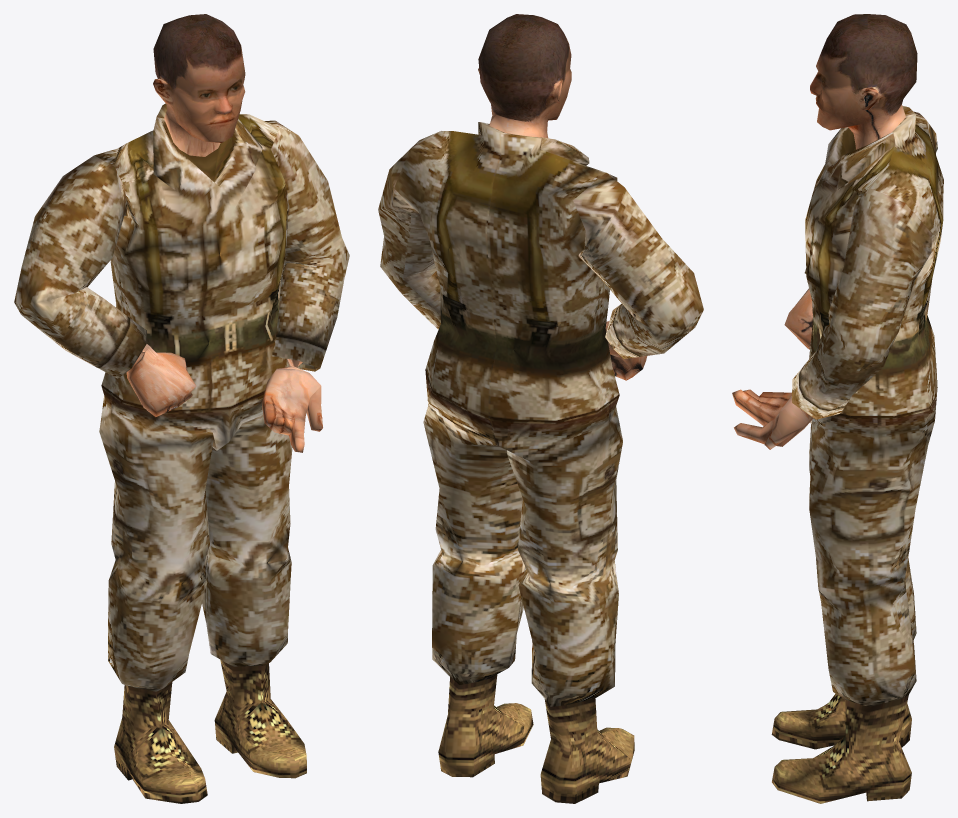
The model's file is OUTRO_SAS_COMMANDER.glb.
3 views of the same model, side by side, from view 1: azimuth 30°, elevation 25°; view 2: azimuth 150°, elevation 25°; view 3: azimuth 270°, elevation 25° (orthographic).
Parts seen in each view (by area): view 1: NEWSKIN; view 2: NEWSKIN; view 3: NEWSKIN.
Boxes of the visible parts, x1,y1,x2,y2 form: NEWSKIN: [14, 14, 349, 803]; NEWSKIN: [378, 14, 703, 803]; NEWSKIN: [732, 14, 943, 803].
Bounding box in the file's own units: 0.7901 × 1.77 × 0.4545.
Materials: 1 (1 with a texture image).
